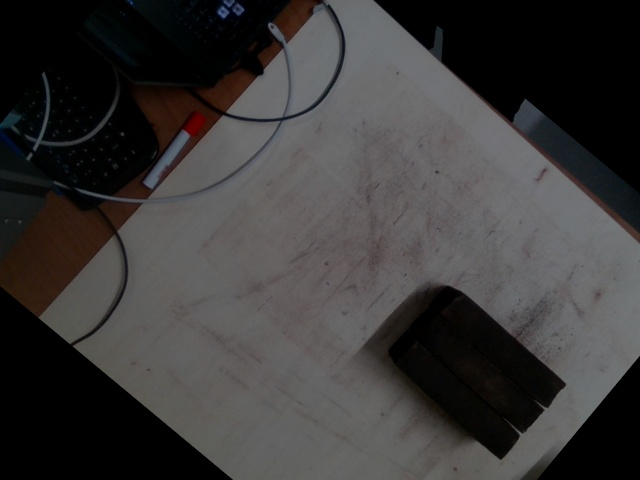brick-side: (442, 292, 563, 407), (397, 343, 518, 458), (418, 316, 539, 430)
